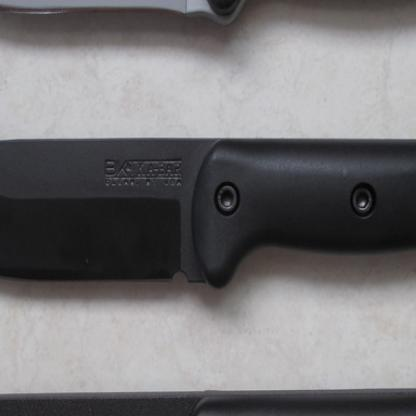knife: (0, 138, 415, 306)
